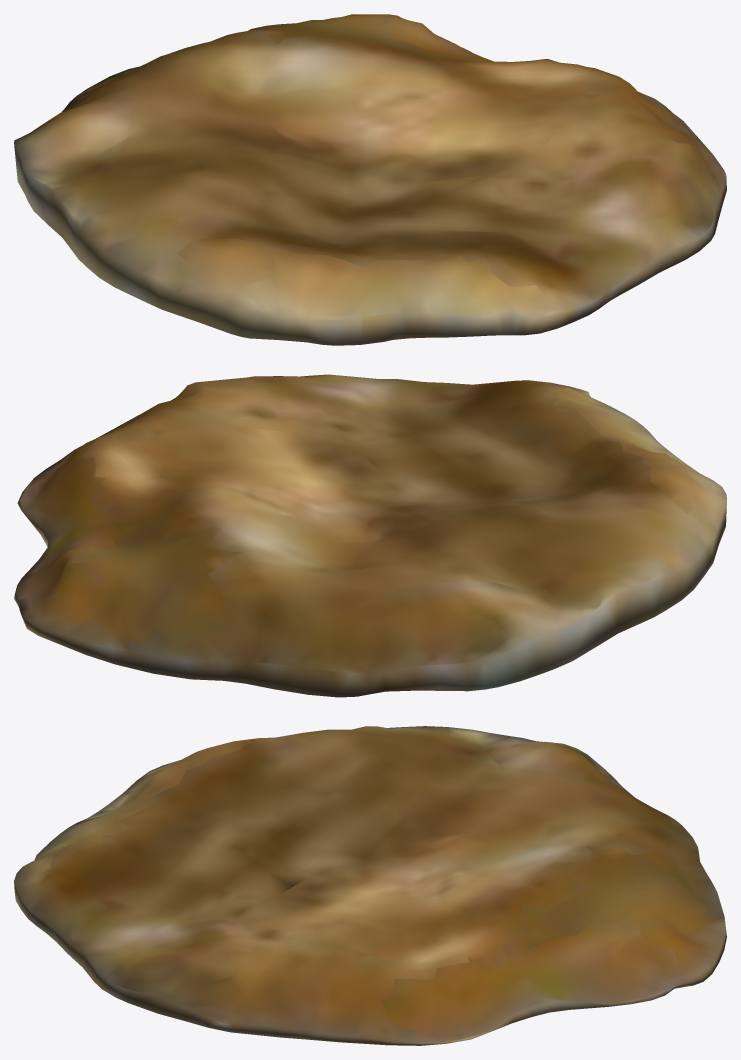
Rendered from sauce-burger.glb.
The picture shows the model from 3 angles, top to bottom: view 1: azimuth 30°, elevation 25°; view 2: azimuth 150°, elevation 25°; view 3: azimuth 270°, elevation 25°; orthographic projection. The views are drawn at different scales.
Visible parts, largest first — view 1: sauce-burger; view 2: sauce-burger; view 3: sauce-burger.
Part boxes in pixels (x1,y1,x2,y2): sauce-burger: [14, 14, 726, 345]; sauce-burger: [14, 374, 726, 697]; sauce-burger: [14, 726, 726, 1045].
Size of the model in its own units: 6.25 by 0.8716 by 6.69.
3 materials, 2 textured.
